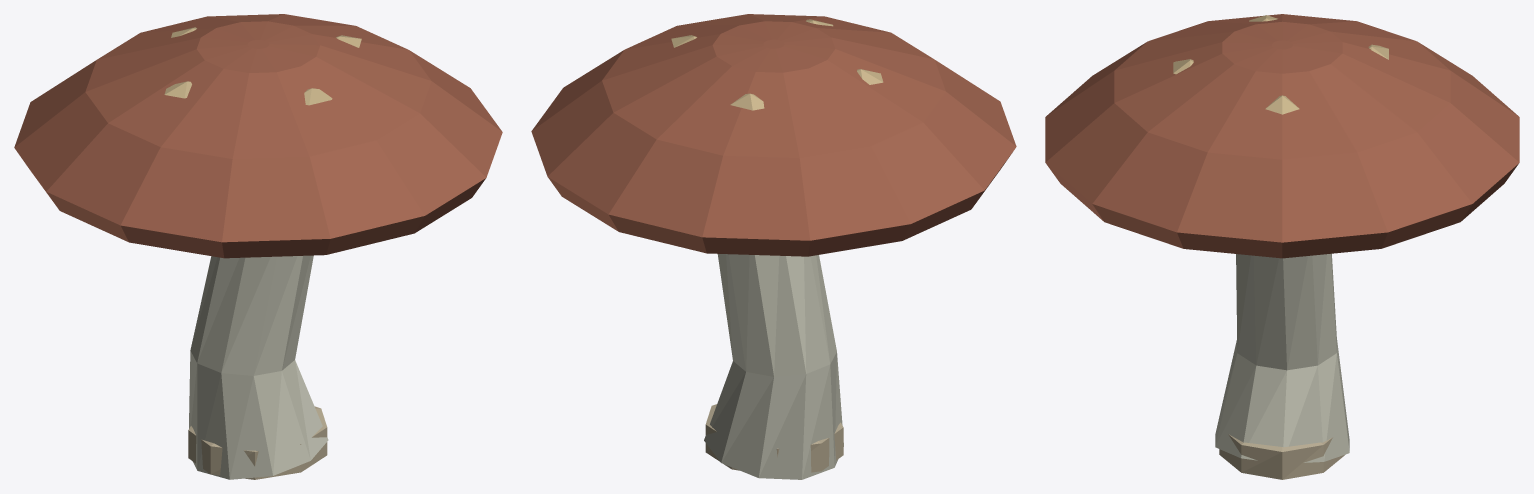
The model's file is giant_mushroom.glb.
3 views of the same model, side by side, from view 1: azimuth 30°, elevation 25°; view 2: azimuth 150°, elevation 25°; view 3: azimuth 270°, elevation 25° (orthographic).
Visible parts, largest first — view 1: geometry; view 2: geometry; view 3: geometry.
Part boxes in pixels (x1,y1,x2,y2): geometry: [14, 14, 502, 479]; geometry: [531, 14, 1016, 479]; geometry: [1045, 14, 1519, 479].
Size of the model in its own units: 1.58 by 1.5 by 1.54.
